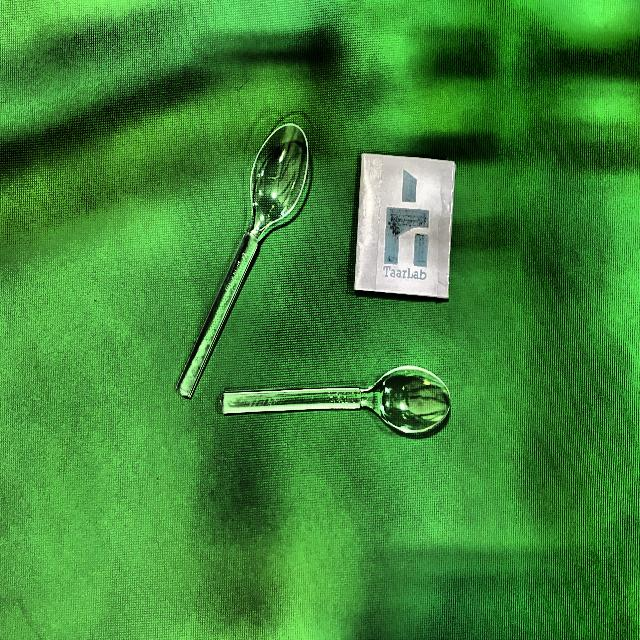plastic utensil: (172, 125, 307, 400), (218, 364, 453, 436)
